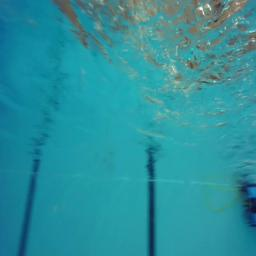Full: (240, 181, 256, 231)
